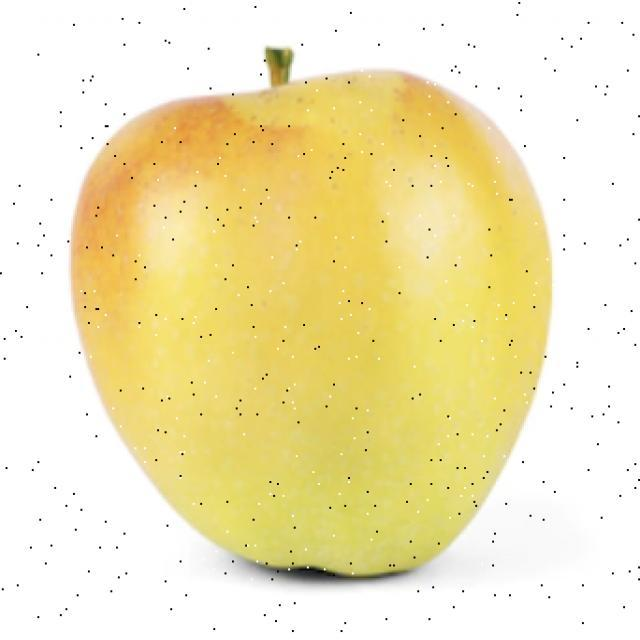Fresh Apple: (66, 70, 542, 585)
